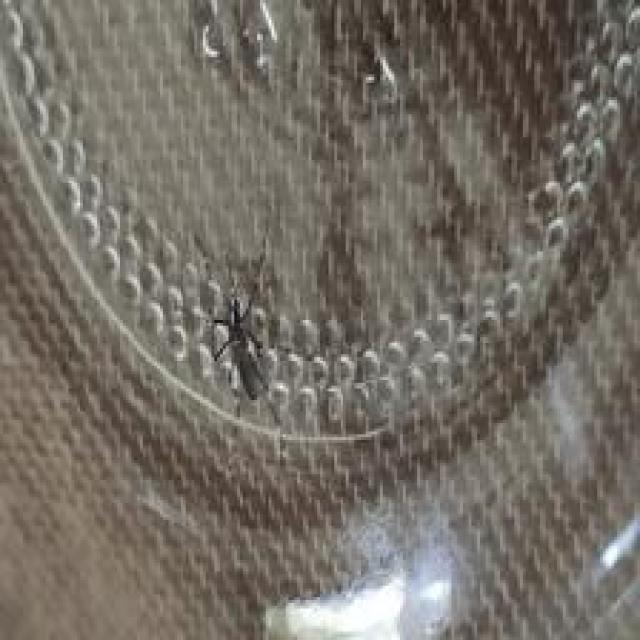Aedes albopictus: (210, 294, 273, 403)
